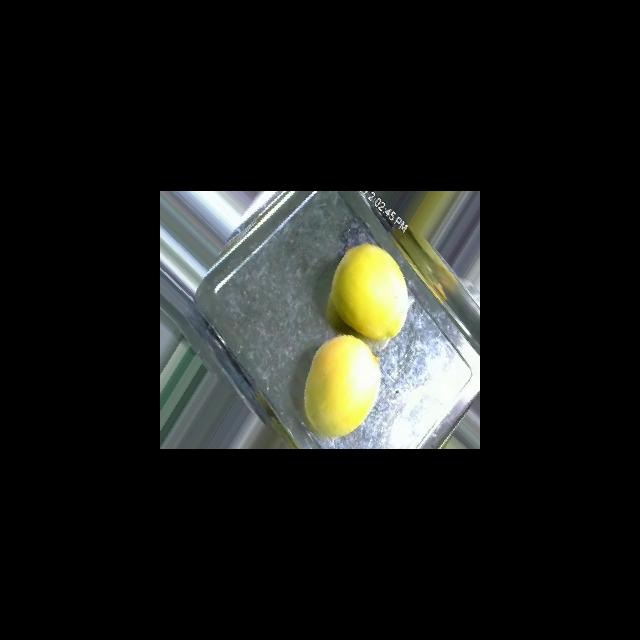mango: (303, 333, 382, 439), (329, 243, 408, 340)
